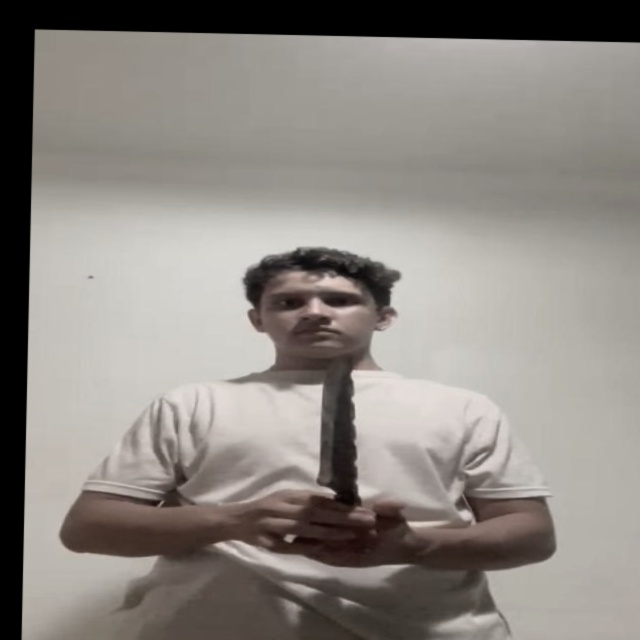Sharp-Object: (314, 354, 361, 495)
